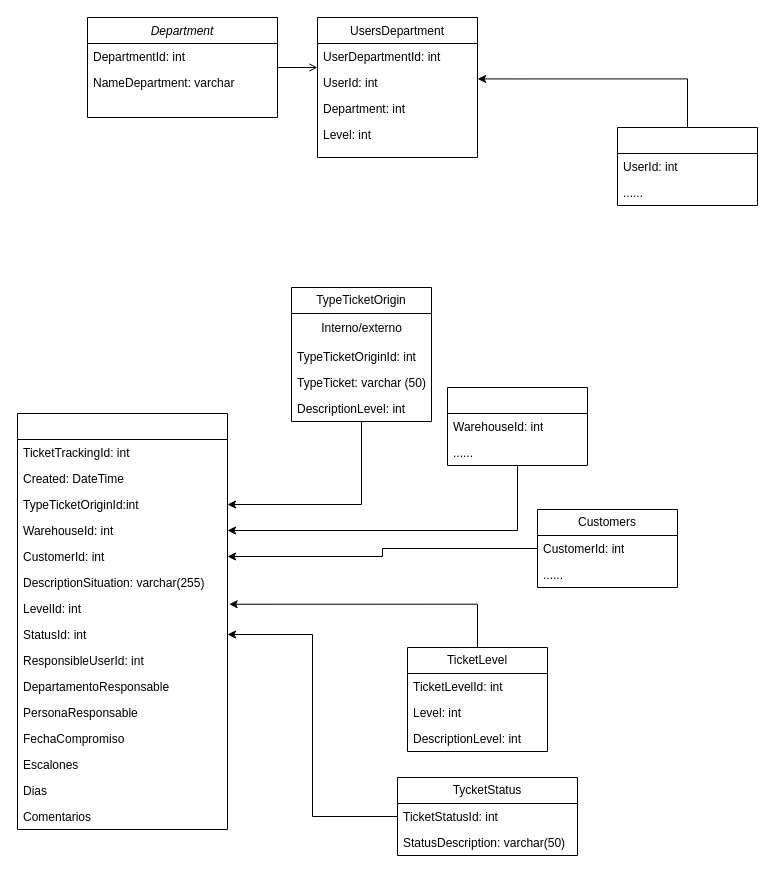
Some shapes in this 775 by 876 pixel diagram are drawn without their labels. The box of each missing label's shape, as (x1, y1, x2, y2) in pixels:
Tickets_Tracking: (16, 412, 228, 830)
Users: (616, 126, 758, 206)
Warehouses: (446, 386, 588, 466)
